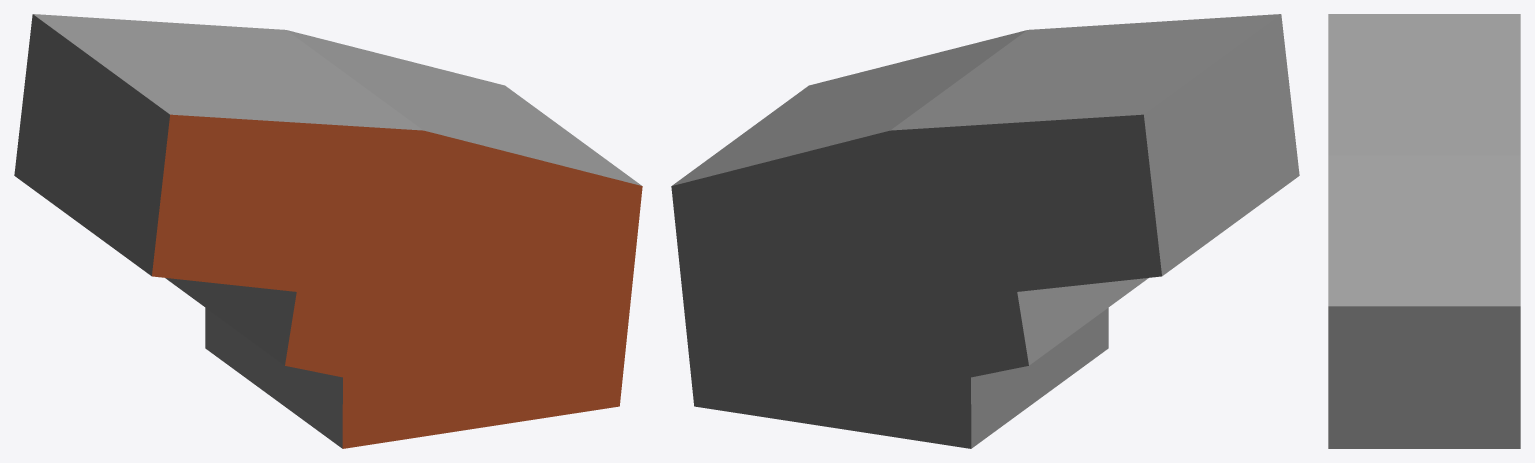
The model's file is construction_0814_assumed_A_Casa_h6m.obj.
The picture shows the model from 3 angles, left to right: view 1: azimuth 30°, elevation 25°; view 2: azimuth 150°, elevation 25°; view 3: azimuth 270°, elevation 25°; orthographic projection. The views are drawn at different scales.
Parts seen in each view (by area): view 1: construction_0814_assumed_A_Casa; view 2: construction_0814_assumed_A_Casa; view 3: construction_0814_assumed_A_Casa.
Boxes of the visible parts, box(x1,y1,x2,y2) form: construction_0814_assumed_A_Casa: box(14, 14, 642, 448); construction_0814_assumed_A_Casa: box(671, 14, 1299, 448); construction_0814_assumed_A_Casa: box(1328, 14, 1520, 448).
Size of the model in its own units: 12.36 by 9.67 by 6.
